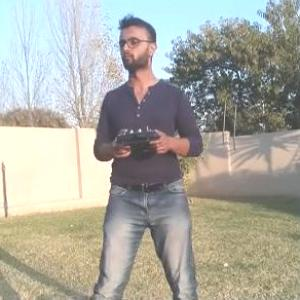follow: (90, 9, 208, 299)
